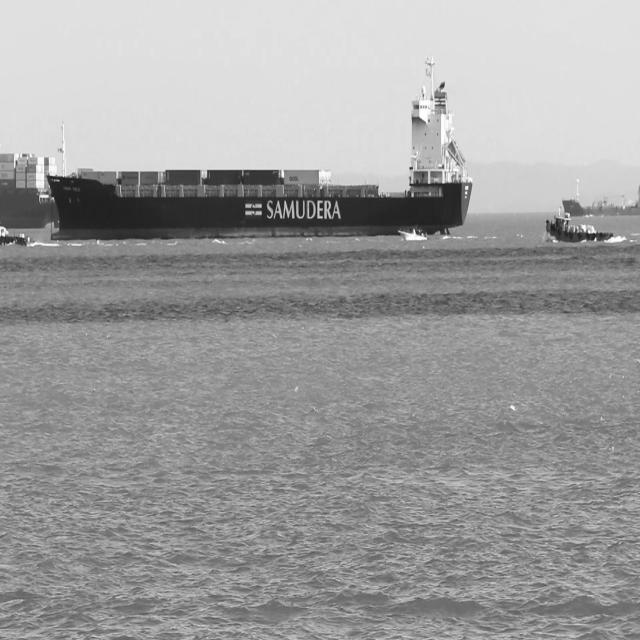ship: (49, 49, 476, 239), (0, 150, 59, 230), (561, 177, 640, 214), (546, 213, 614, 241), (0, 224, 33, 247), (397, 223, 429, 239)
